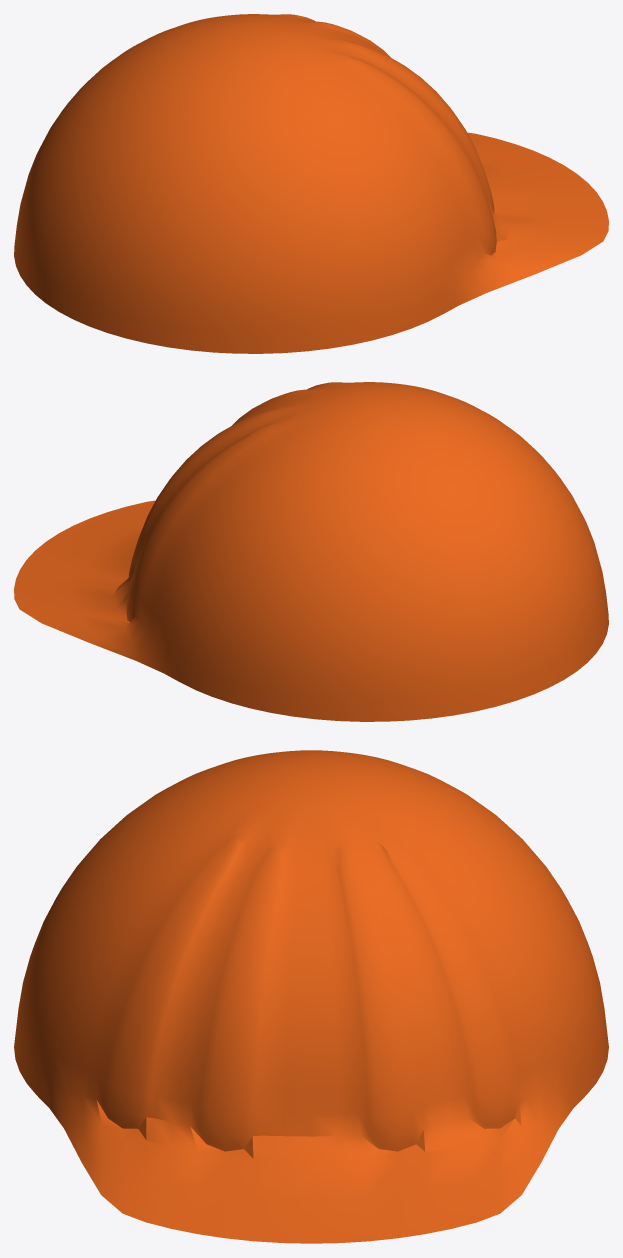
Rendered from tokar_face_model_1.gltf.
The picture shows the model from 3 angles, top to bottom: view 1: azimuth 30°, elevation 25°; view 2: azimuth 150°, elevation 25°; view 3: azimuth 270°, elevation 25°; orthographic projection. The views are drawn at different scales.
Parts seen in each view (by area): view 1: tokar_face_model_1; view 2: tokar_face_model_1; view 3: tokar_face_model_1.
Part boxes in pixels (box(x1,y1,x2,y2)): tokar_face_model_1: box(14, 14, 608, 353); tokar_face_model_1: box(14, 382, 608, 721); tokar_face_model_1: box(14, 750, 608, 1243).
Bounding box in the file's own units: 2.55 × 0.9976 × 1.99.
